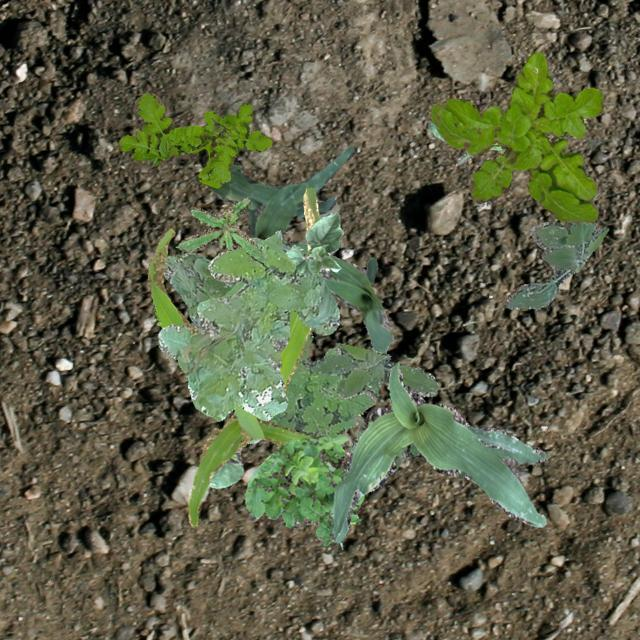crop: (146, 186, 318, 524), (330, 362, 544, 542), (206, 144, 356, 238), (280, 240, 392, 352), (222, 230, 282, 296), (284, 212, 342, 274), (427, 122, 502, 164), (207, 438, 260, 488)
weed: (162, 252, 374, 438), (156, 238, 338, 420), (427, 51, 602, 222), (116, 92, 272, 186), (244, 434, 366, 544), (504, 220, 608, 308), (308, 342, 438, 398), (175, 196, 265, 262)
